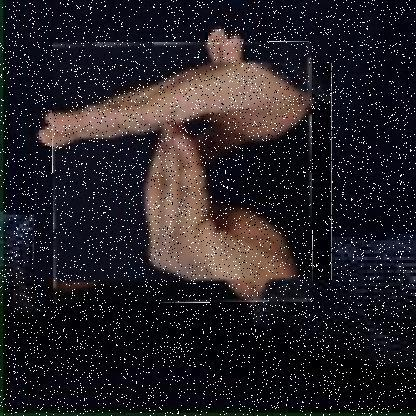Z: (52, 42, 312, 303)
